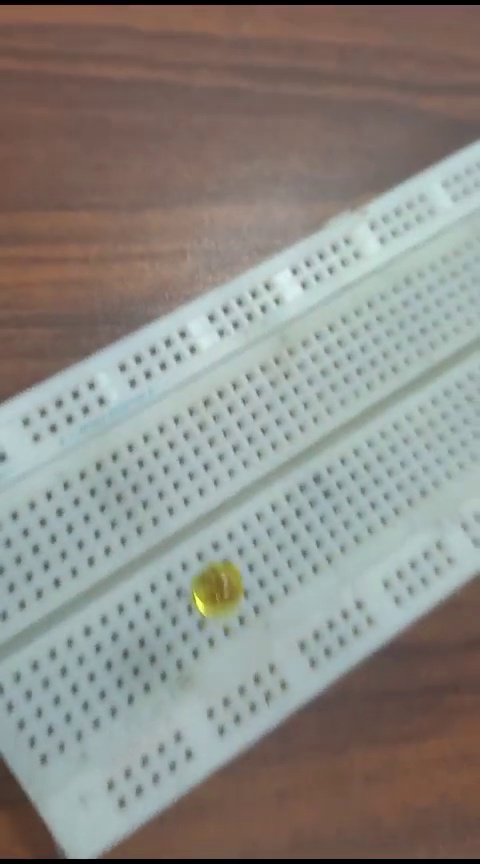LED: (186, 561, 244, 623)
